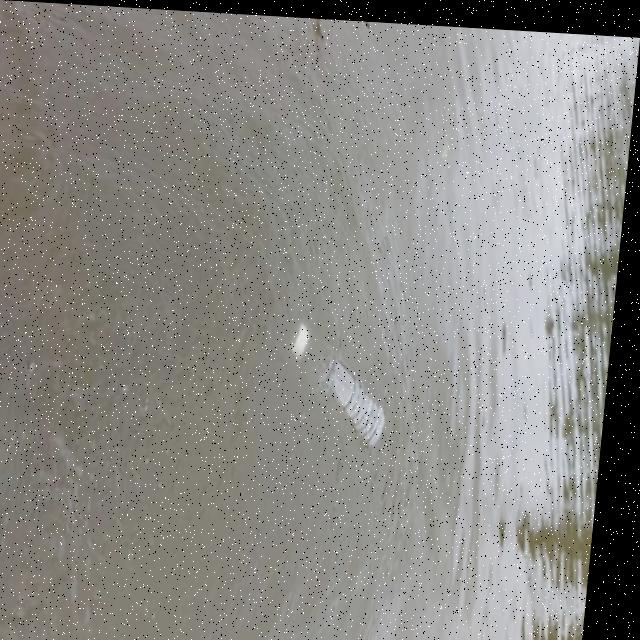waterbottle: (282, 320, 407, 438), (206, 441, 208, 442)
